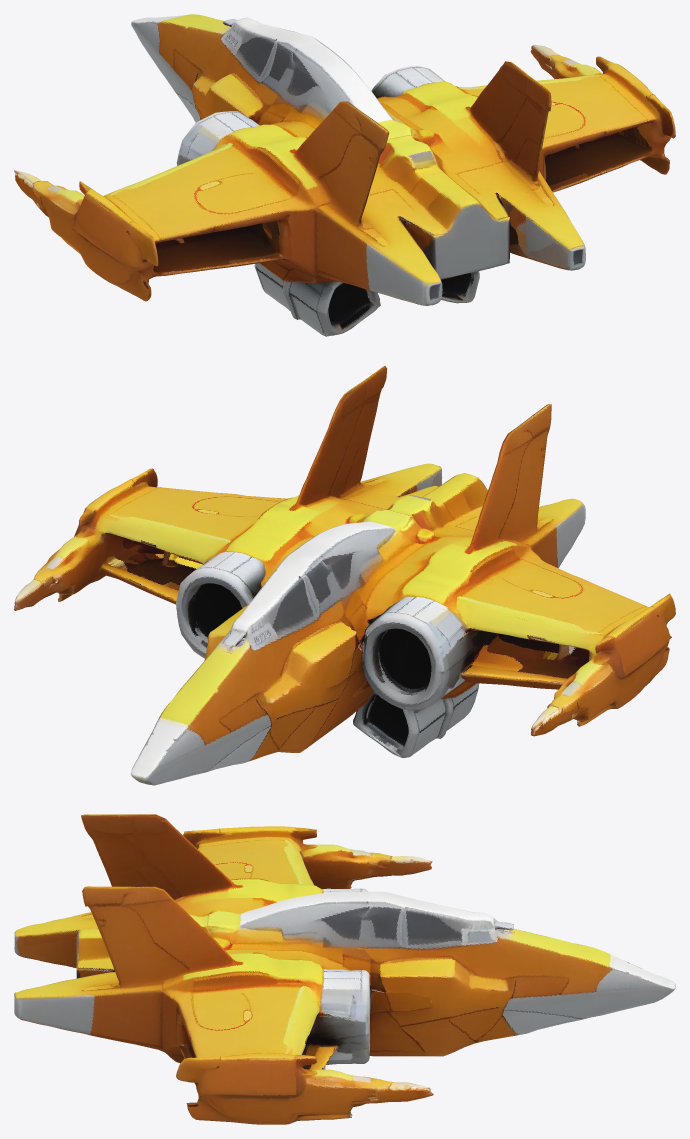
File: fighter.glb
3 renders of one model, top to bottom at view 1: azimuth 30°, elevation 25°; view 2: azimuth 150°, elevation 25°; view 3: azimuth 270°, elevation 25°, orthographic. The views are drawn at different scales.
Visible parts, largest first — view 1: model; view 2: model; view 3: model.
Boxes of the visible parts, x1,y1,x2,y2 form: model: (14,14,675,336); model: (14,365,675,785); model: (14,814,675,1124).
Bounding box in the file's own units: 1.65 × 0.7512 × 1.9.
Materials: 1 (1 with a texture image).
